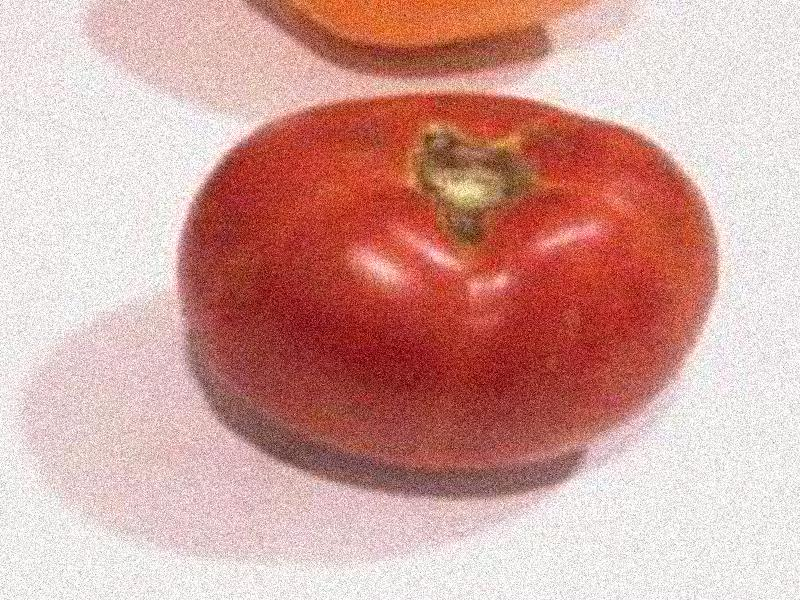Tomato: (183, 95, 718, 465)
